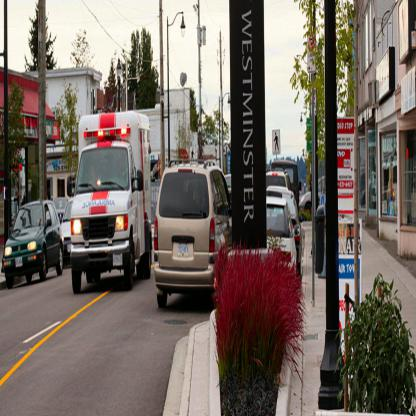Ambulance: (70, 110, 153, 290)
